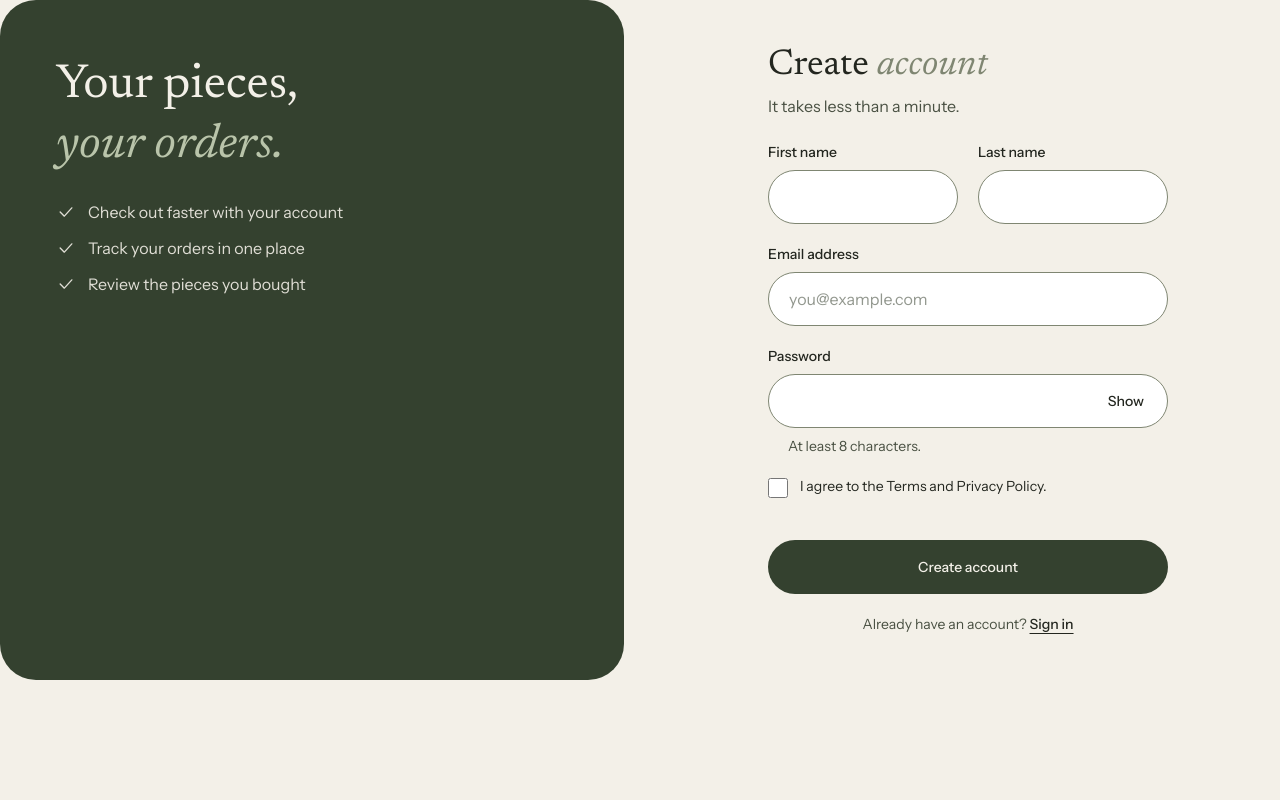
RegisterPage › asks for every empty field under the field, and sends nothing
Expected: the field labelled "First name" is shown, left=768, top=170, right=958, bottom=224
Click the button "Create account" at (968, 567), box left=768, top=540, right=1168, bottom=594
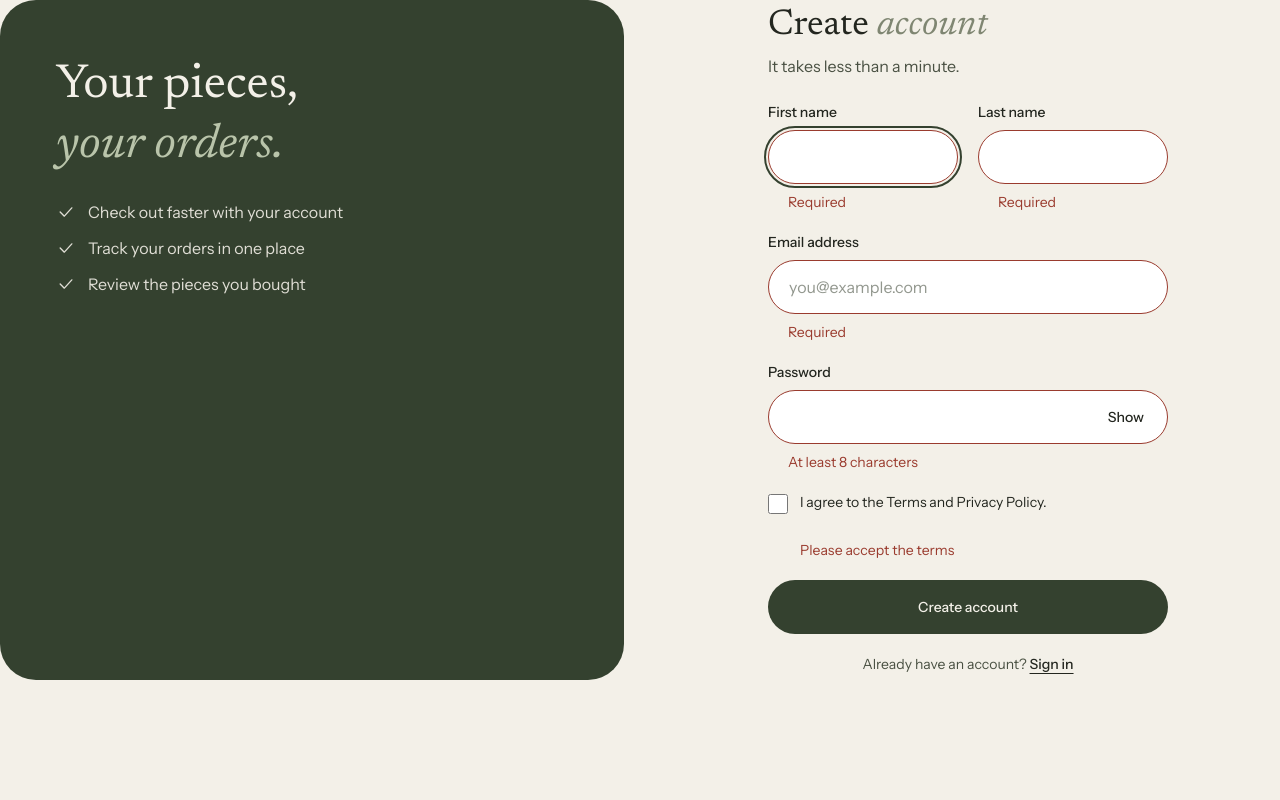
Expected: the text "At least 8 characters" is shown, left=788, top=453, right=918, bottom=471
Expected: the text "Required" is shown 3 times, left=788, top=193, right=846, bottom=211; left=998, top=193, right=1056, bottom=211; left=788, top=323, right=846, bottom=341
Expected: the text "Please accept the terms" is shown, left=800, top=541, right=954, bottom=559
